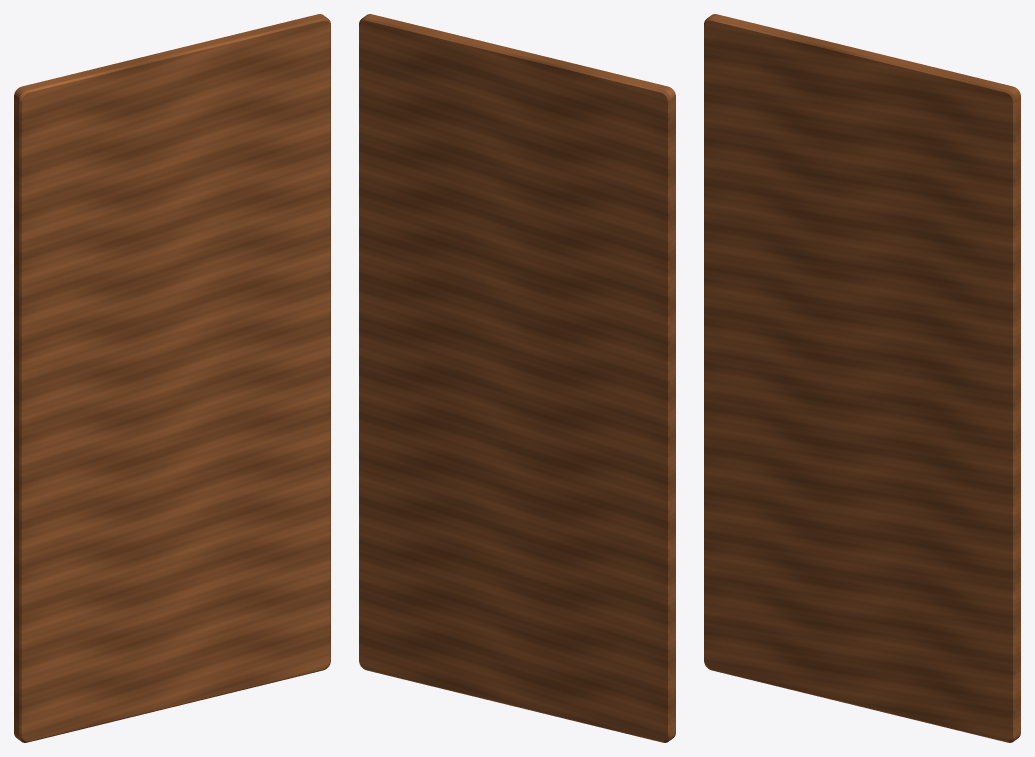
File: tabletop.obj
3 views of the same model, side by side, from view 1: azimuth 30°, elevation 25°; view 2: azimuth 150°, elevation 25°; view 3: azimuth 330°, elevation 25° (orthographic).
Size of the model in its own units: 0.75 by 1.5 by 0.03.
1 material, 1 textured.
